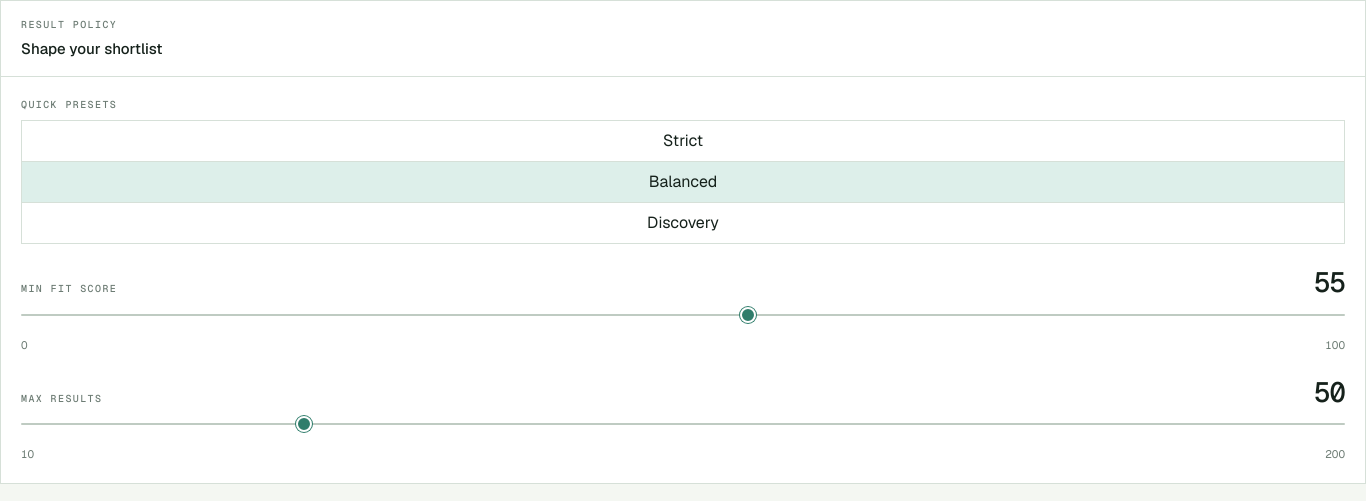
Test: PolicyPanel › interactions › updates slider values immediately when a preset is clicked
The width and height of the screenshot is (1366, 501).
Click the button "Discovery" at (683,223), box [22,203,1344,243]
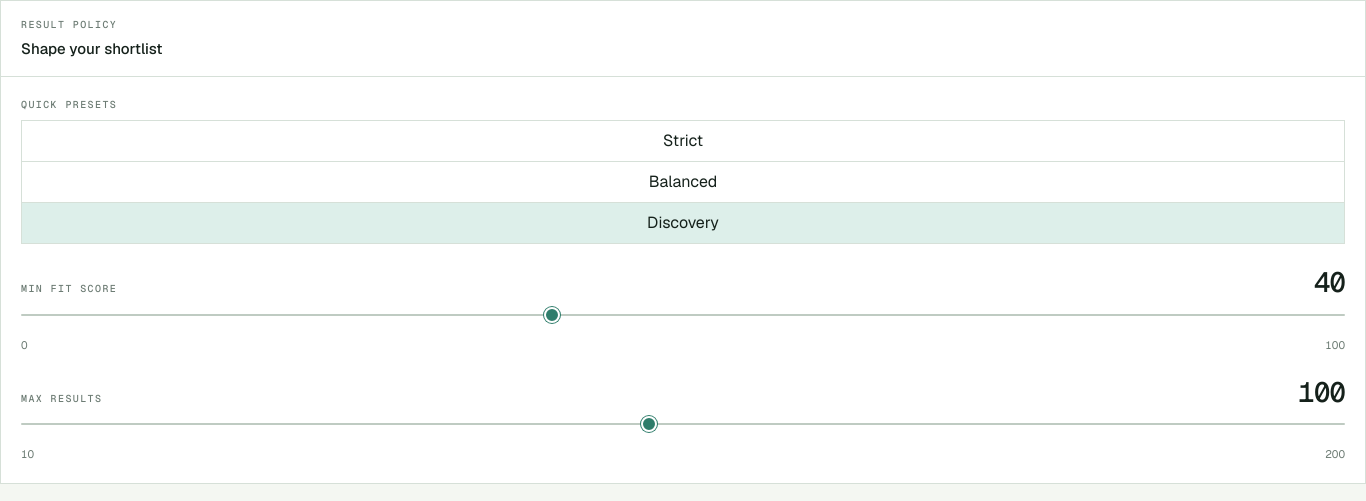
Expected: the slider named "minimum fit score" holds "40", [21,305,1345,325]
Expected: the slider named "maximum number of results" holds "100", [21,414,1345,434]
